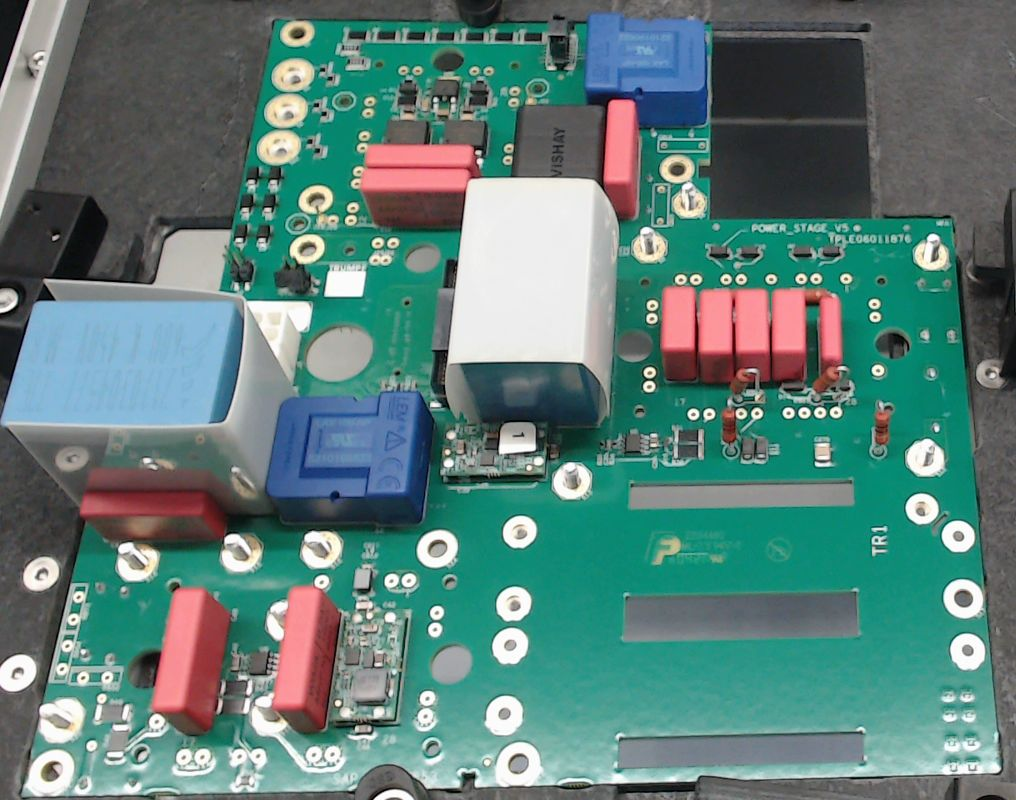comp1: (266, 393, 438, 528), (582, 14, 709, 126)
comp2: (153, 587, 230, 735), (273, 586, 339, 733), (80, 491, 226, 539), (363, 169, 473, 228), (602, 99, 642, 219), (661, 285, 697, 383), (699, 288, 734, 384), (736, 287, 769, 387), (775, 286, 805, 385), (363, 143, 477, 169), (815, 295, 842, 376)
comp3: (515, 104, 601, 181)
comp4: (3, 276, 296, 519), (444, 176, 621, 428)
